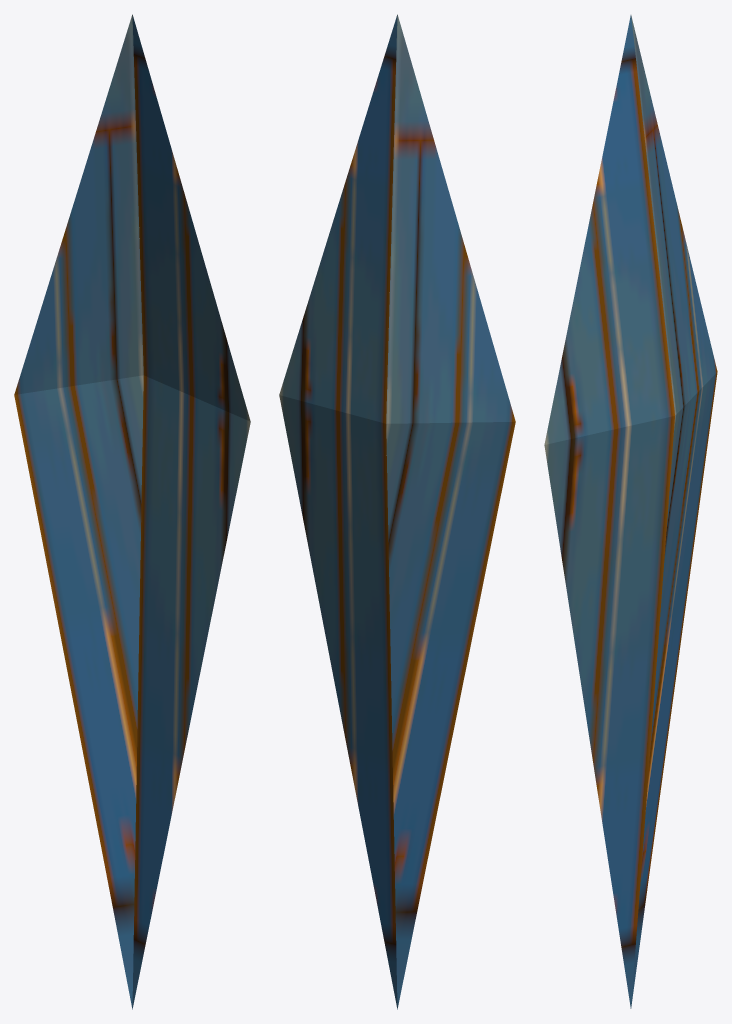
File: Eckverschluß [BlauesMetall]_1727.glb
The picture shows the model from 3 angles, left to right: view 1: azimuth 30°, elevation 25°; view 2: azimuth 210°, elevation 25°; view 3: azimuth 270°, elevation 25°; orthographic projection.
Visible parts, largest first — view 1: pPlaneShape11, pPlaneShape10, pPlaneShape8, pPlaneShape9; view 2: pPlaneShape11, pPlaneShape10, pPlaneShape8, pPlaneShape9; view 3: pPlaneShape10, pPlaneShape9, pPlaneShape11, pPlaneShape8.
Boxes of the visible parts, <box> form: pPlaneShape11: <box>14,375,143,1009</box>; pPlaneShape10: <box>132,375,250,1007</box>; pPlaneShape8: <box>14,14,143,394</box>; pPlaneShape9: <box>132,15,250,421</box>; pPlaneShape11: <box>386,421,515,1009</box>; pPlaneShape10: <box>279,395,397,1007</box>; pPlaneShape8: <box>386,14,515,423</box>; pPlaneShape9: <box>279,15,397,423</box>; pPlaneShape10: <box>544,416,674,1008</box>; pPlaneShape9: <box>544,15,674,444</box>; pPlaneShape11: <box>631,372,717,1008</box>; pPlaneShape8: <box>631,15,717,415</box>.
Size of the model in its own units: 0.0549 by 0.3486 by 0.0549.
Materials: 4 (4 with a texture image).
